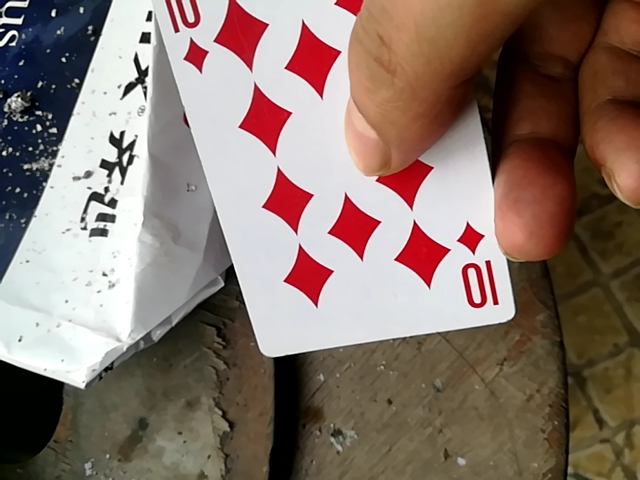fk 10: (128, 2, 515, 364)
